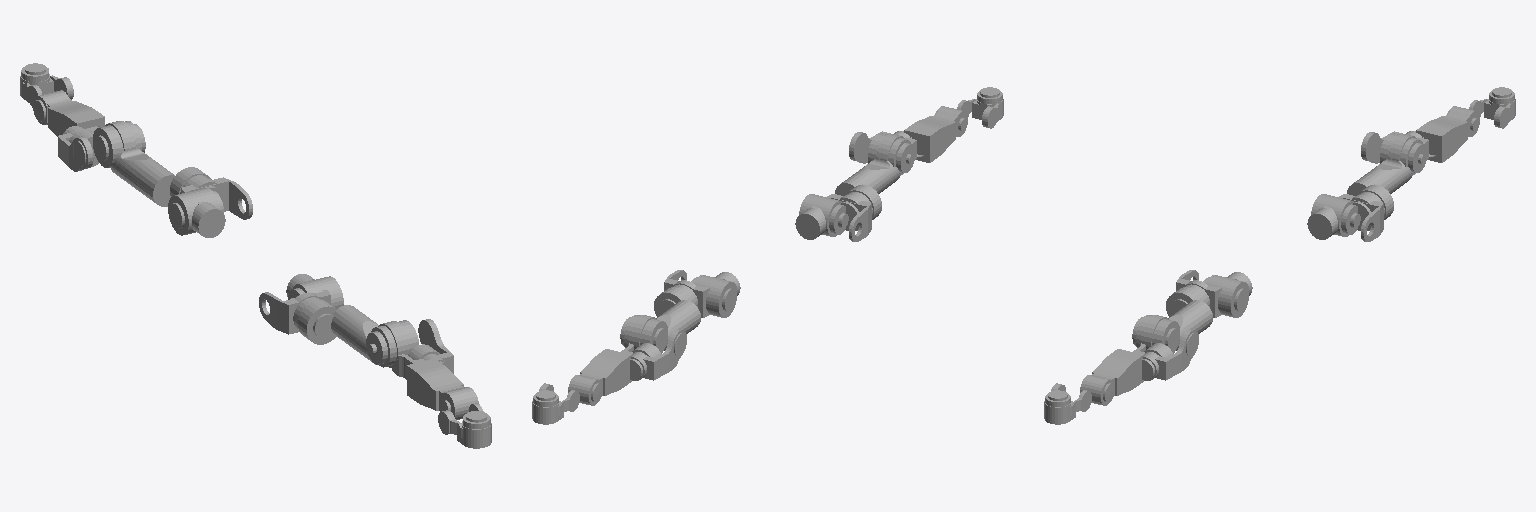
--- Facts derived from the render (not from the file) ---
The picture shows the robot from 3 angles, left to right: view 1: azimuth 30°, elevation 25°; view 2: azimuth 150°, elevation 25°; view 3: azimuth 330°, elevation 25°; orthographic projection.
Robot: OpenLoog — 15 links, 14 joints (14 revolute); root link base_link; default pose: all joints at 0.
Visible links, largest first — view 1: Link_arm_l_03, Link_arm_r_03, Link_arm_r_02, Link_arm_r_05, Link_arm_l_01, Link_arm_l_05, Link_arm_l_02, Link_arm_r_06, Link_arm_r_04, Link_arm_l_04, Link_arm_l_06, Link_arm_r_01; view 2: Link_arm_r_03, Link_arm_l_03, Link_arm_l_05, Link_arm_r_05, Link_arm_r_01, Link_arm_l_04, Link_arm_r_02, Link_arm_l_02, Link_arm_l_01, Link_arm_l_06, Link_arm_r_06, Link_arm_r_04; view 3: Link_arm_l_03, Link_arm_r_03, Link_arm_r_05, Link_arm_l_05, Link_arm_l_01, Link_arm_r_04, Link_arm_l_02, Link_arm_r_02, Link_arm_r_01, Link_arm_r_06, Link_arm_l_06, Link_arm_l_04.
Boxes of the visible links, x1,y1,x2,y2 form: Link_arm_l_03: [93, 121, 174, 206]; Link_arm_r_03: [331, 305, 418, 367]; Link_arm_r_02: [259, 279, 336, 344]; Link_arm_r_05: [407, 359, 478, 419]; Link_arm_l_01: [168, 188, 225, 237]; Link_arm_l_05: [33, 90, 104, 136]; Link_arm_l_02: [170, 167, 252, 219]; Link_arm_r_06: [438, 403, 491, 448]; Link_arm_r_04: [392, 319, 453, 379]; Link_arm_l_04: [58, 126, 98, 171]; Link_arm_l_06: [20, 63, 73, 107]; Link_arm_r_01: [286, 274, 343, 308]; Link_arm_r_03: [835, 133, 915, 195]; Link_arm_l_03: [620, 300, 700, 353]; Link_arm_l_05: [568, 349, 631, 405]; Link_arm_r_05: [904, 106, 967, 162]; Link_arm_r_01: [795, 194, 848, 239]; Link_arm_l_04: [621, 329, 686, 380]; Link_arm_r_02: [812, 184, 881, 241]; Link_arm_l_02: [654, 270, 724, 317]; Link_arm_l_01: [691, 272, 740, 317]; Link_arm_l_06: [532, 383, 579, 424]; Link_arm_r_06: [957, 87, 1003, 128]; Link_arm_r_04: [849, 131, 916, 163]; Link_arm_l_03: [1347, 133, 1427, 195]; Link_arm_r_03: [1132, 300, 1212, 353]; Link_arm_r_05: [1080, 349, 1143, 405]; Link_arm_l_05: [1416, 106, 1479, 162]; Link_arm_l_01: [1307, 194, 1360, 239]; Link_arm_r_04: [1133, 329, 1198, 380]; Link_arm_l_02: [1324, 184, 1393, 241]; Link_arm_r_02: [1166, 270, 1236, 317]; Link_arm_r_01: [1203, 272, 1252, 317]; Link_arm_r_06: [1044, 383, 1091, 424]; Link_arm_l_06: [1469, 87, 1515, 128]; Link_arm_l_04: [1361, 131, 1428, 163].
Size in the robot's own frame: 0.1913 by 1.77 by 0.1035 metres.
12 mesh visuals loaded from 15 distinct referenced files (12 binary STL); not drawn: 3 (reference not matched to a file when rendering).

The robot description file, URDF, robot "OpenLoog":
<?xml version="1.0" encoding="utf-8"?>
<!-- This URDF was automatically created by SolidWorks to URDF Exporter! Originally created by Stephen Brawner ([email redacted]) 
     Commit Version: 1.6.0-4-g7f85cfe  Build Version: 1.6.7995.38578
     For more information, please see http://wiki.ros.org/sw_urdf_exporter -->
<!-- 
Copyright 2025 国地共建人形机器人创新中心/人形机器人（上海）有限公司, https://www.openloong.net/

Permission is hereby granted, free of charge, to any person obtaining a copy of this software and associated documentation files (the “Software”), to deal in the Software without restriction, including without limitation the rights to use, copy, modify, merge, publish, distribute, sublicense, and/or sell copies of the Software, and to permit persons to whom the Software is furnished to do so, subject to the following conditions:

The above copyright notice and this permission notice shall be included in all copies or substantial portions of the Software.

THE SOFTWARE IS PROVIDED “AS IS”, WITHOUT WARRANTY OF ANY KIND, EXPRESS OR IMPLIED, INCLUDING BUT NOT LIMITED TO THE WARRANTIES OF MERCHANTABILITY, FITNESS FOR A PARTICULAR PURPOSE AND NONINFRINGEMENT. IN NO EVENT SHALL THE AUTHORS OR COPYRIGHT HOLDERS BE LIABLE FOR ANY CLAIM, DAMAGES OR OTHER LIABILITY, WHETHER IN AN ACTION OF CONTRACT, TORT OR OTHERWISE, ARISING FROM, OUT OF OR IN CONNECTION WITH THE SOFTWARE OR THE USE OR OTHER DEALINGS IN THE SOFTWARE.
-->
<robot
  name="OpenLoog">
  <mujoco>
    <compiler
    	meshdir="meshes/"
    	balanceinertia="true"
    	discardvisual="false" />
  </mujoco>
  <link
    name="base_link">
    <inertial>
      <origin
        xyz="-0.0056641 -0.0013367 0.23829"
        rpy="0 0 0" />
      <mass
        value="22.447" />
      <inertia
        ixx="0.3742"
        ixy="0"
        ixz="0"
        iyy="0.27691"
        iyz="0"
        izz="0.22104" />
    </inertial>
    <visual>
      <origin
        xyz="0 0 0"
        rpy="0 0 0" />
      <geometry>
        <mesh
          filename="package://AzureLoong/meshes/base_link.STL" />
      </geometry>
      <material
        name="">
        <color
          rgba="0.75294 0.75294 0.75294 1" />
      </material>
    </visual>
    <collision>
      <origin
        xyz="0 0 0"
        rpy="0 0 0" />
      <geometry>
        <mesh
          filename="package://AzureLoong/meshes/base_link.STL" />
      </geometry>
    </collision>
  </link>
  <!-- <link
    name="Link_head_yaw">
    <inertial>
      <origin
        xyz="4.6974E-12 -0.0020814 0.044801"
        rpy="0 0 0" />
      <mass
        value="0.84249" />
      <inertia
        ixx="0.000629"
        ixy="-1.2848E-14"
        ixz="1.5461E-10"
        iyy="0.0007003"
        iyz="6.5E-06"
        izz="0.0005541" />
    </inertial>
    <visual>
      <origin
        xyz="0 0 0"
        rpy="0 0 0" />
      <geometry>
        <mesh
          filename="package://AzureDragon/meshes/Link_head_yaw.STL" />
      </geometry>
      <material
        name="">
        <color
          rgba="0.89804 0.91765 0.92941 1" />
      </material>
    </visual>
    <collision>
      <origin
        xyz="0 0 0"
        rpy="0 0 0" />
      <geometry>
        <mesh
          filename="package://AzureDragon/meshes/Link_head_yaw.STL" />
      </geometry>
    </collision>
  </link>
  <joint
    name="J_head_yaw"
    type="revolute">
    <origin
      xyz="0.009 0 0.4064"
      rpy="0 0 0" />
    <parent
      link="base_link" />
    <child
      link="Link_head_yaw" />
    <axis
      xyz="0 0 1" />
    <limit
      lower="-1.5708"
      upper="1.5708"
      effort="26"
      velocity="109.8" />
  </joint>
  <link
    name="Link_head_pitch">
    <inertial>
      <origin
        xyz="0.020569 0.033004 0.125"
        rpy="0 0 0" />
      <mass
        value="1.3943" />
      <inertia
        ixx="0.0060059"
        ixy="-9.4E-06"
        ixz="0.0007564"
        iyy="0.00629"
        iyz="-1.03E-05"
        izz="0.0048569" />
    </inertial>
    <visual>
      <origin
        xyz="0 0 0"
        rpy="0 0 0" />
      <geometry>
        <mesh
          filename="package://AzureDragon/meshes/Link_head_pitch.STL" />
      </geometry>
      <material
        name="">
        <color
          rgba="0.69804 0.69804 0.69804 1" />
      </material>
    </visual>
    <collision>
      <origin
        xyz="0 0 0"
        rpy="0 0 0" />
      <geometry>
        <mesh
          filename="package://AzureDragon/meshes/Link_head_pitch.STL" />
      </geometry>
    </collision>
  </link>
  <joint
    name="J_head_pitch"
    type="revolute">
    <origin
      xyz="0 -0.0345999999999997 0.0484999999999999"
      rpy="0 0 0" />
    <parent
      link="Link_head_yaw" />
    <child
      link="Link_head_pitch" />
    <axis
      xyz="0 -1 0" />
    <limit
      lower="-0.7854"
      upper="0.7854"
      effort="26"
      velocity="109.8" />
  </joint> -->
  <link
    name="Link_arm_r_01">
    <inertial>
      <origin
        xyz="0.0044946 0.002706 -1.8744E-06"
        rpy="0 0 0" />
      <mass
        value="0.75641" />
      <inertia
        ixx="0.00058712"
        ixy="2.9803E-07"
        ixz="5.8378E-09"
        iyy="0.00080305"
        iyz="-3.6648E-08"
        izz="0.00084299" />
    </inertial>
    <visual>
      <origin
        xyz="0 0.041 0"
        rpy="0 0 0" />
      <geometry>
        <mesh
          filename="package://AzureLoong/meshes/Link_arm_r_01.STL" />
      </geometry>
      <material
        name="">
        <color
          rgba="0.69804 0.69804 0.69804 1" />
      </material>
    </visual>
    <collision>
      <origin
        xyz="0 0.041 0"
        rpy="0 0 0" />
      <geometry>
        <mesh
          filename="package://AzureLoong/meshes/Link_arm_r_01.STL" />
      </geometry>
    </collision>
  </link>
  <joint
    name="J_arm_r_01"
    type="revolute">
    <origin
      xyz="0.004 -0.2026 0.3922"
      rpy="0 0 0" />
    <parent
      link="base_link" />
    <child
      link="Link_arm_r_01" />
    <axis
      xyz="0 -1 0" />
    <limit
      lower="-2.96706"
      upper="2.96706"
      effort="80"
      velocity="3.14" />
  </joint>
  <link
    name="Link_arm_r_02">
    <inertial>
      <origin
        xyz="0 -0.0674307499121858 -6.93889390390723E-18"
        rpy="0 0 0" />
      <mass
        value="0.984999996273518" />
      <inertia
        ixx="0.0017309882399251"
        ixy="-9.79515256436727E-20"
        ixz="-3.63988309726277E-19"
        iyy="0.00115401958000568"
        iyz="4.42134220053852E-19"
        izz="0.00226269324370836" />
    </inertial>
    <visual>
      <origin
        xyz="-0.042 0 0"
        rpy="0 0 0" />
      <geometry>
        <mesh
          filename="package://AzureLoong/meshes/Link_arm_r_02.STL" />
      </geometry>
      <material
        name="">
        <color
          rgba="0.698039215686274 0.698039215686274 0.698039215686274 1" />
      </material>
    </visual>
    <collision>
      <origin
        xyz="-0.042 0 0"
        rpy="0 0 0" />
      <geometry>
        <mesh
          filename="package://AzureLoong/meshes/Link_arm_r_02.STL" />
      </geometry>
    </collision>
  </link>
  <joint
    name="J_arm_r_02"
    type="revolute">
    <origin
      xyz="0 0 0"
      rpy="0 0 0" />
    <parent
      link="Link_arm_r_01" />
    <child
      link="Link_arm_r_02" />
    <axis
      xyz="-1 0 0" />
    <limit
      lower="-1.83260"
      upper="1.83260"
      effort="80"
      velocity="3.14" />
  </joint>
  <link
    name="Link_arm_r_03">
    <inertial>
      <origin
        xyz="-0.00141357502419955 -0.164662742175383 0.0207578924800774"
        rpy="0 0 0" />
      <mass
        value="0.958999855228924" />
      <inertia
        ixx="0.00206438134078715"
        ixy="1.82014067823509E-05"
        ixz="-5.1283136963991E-06"
        iyy="0.00080535412926664"
        iyz="-0.000255265992194607"
        izz="0.00205099914609259" />
    </inertial>
    <visual>
      <origin
        xyz="0 0 0"
        rpy="0 0 0" />
      <geometry>
        <mesh
          filename="package://AzureLoong/meshes/Link_arm_r_03.STL" />
      </geometry>
      <material
        name="">
        <color
          rgba="0.698039215686274 0.698039215686274 0.698039215686274 1" />
      </material>
    </visual>
    <collision>
      <origin
        xyz="0 0 0"
        rpy="0 0 0" />
      <geometry>
        <mesh
          filename="package://AzureLoong/meshes/Link_arm_r_03.STL" />
      </geometry>
    </collision>
  </link>
  <joint
    name="J_arm_r_03"
    type="revolute">
    <origin
      xyz="0 -0.1226 0"
      rpy="0 0 0" />
    <parent
      link="Link_arm_r_02" />
    <child
      link="Link_arm_r_03" />
    <axis
      xyz="0 -1 0" />
    <limit
      lower="-2.96706"
      upper="2.96706"
      effort="48"
      velocity="3.14" />
  </joint>
  <link
    name="Link_arm_r_04">
    <inertial>
      <origin
        xyz="-0.0034 -0.060767 -0.021003"
        rpy="0 0 0" />
      <mass
        value="0.6" />
      <inertia
        ixx="0.00070398"
        ixy="-2.023E-05"
        ixz="-1.1263E-05"
        iyy="0.00068085"
        iyz="0.00010585"
        izz="0.0010653" />
    </inertial>
    <visual>
      <origin
        xyz="0.0353 0 0"
        rpy="0 0 0" />
      <geometry>
        <mesh
          filename="package://AzureLoong/meshes/Link_arm_r_04.STL" />
      </geometry>
      <material
        name="">
        <color
          rgba="0.69804 0.69804 0.69804 1" />
      </material>
    </visual>
    <collision>
      <origin
        xyz="0.0353 0 0"
        rpy="0 0 0" />
      <geometry>
        <mesh
          filename="package://AzureLoong/meshes/Link_arm_r_04.STL" />
      </geometry>
    </collision>
  </link>
  <joint
    name="J_arm_r_04"
    type="revolute">
    <origin
      xyz="0 -0.1774 0.024"
      rpy="0 0 0" />
    <parent
      link="Link_arm_r_03" />
    <child
      link="Link_arm_r_04" />
    <axis
      xyz="-1 0 0" />
    <limit
      lower="0"
      upper="2.96706"
      effort="48"
      velocity="3.14" />
  </joint>
  <link
    name="Link_arm_r_05">
    <inertial>
      <origin
        xyz="3.2712E-05 -0.068658 -0.00011178"
        rpy="0 0 0" />
      <mass
        value="0.68976" />
      <inertia
        ixx="0.0025225"
        ixy="4E-07"
        ixz="-8E-07"
        iyy="0.0004487"
        iyz="-3.1E-06"
        izz="0.0024111" />
    </inertial>
    <visual>
      <origin
        xyz="0 0 0"
        rpy="0 0 0" />
      <geometry>
        <mesh
          filename="package://AzureLoong/meshes/Link_arm_r_05.STL" />
      </geometry>
      <material
        name="">
        <color
          rgba="0.69804 0.69804 0.69804 1" />
      </material>
    </visual>
    <collision>
      <origin
        xyz="0 0 0"
        rpy="0 0 0" />
      <geometry>
        <mesh
          filename="package://AzureLoong/meshes/Link_arm_r_05.STL" />
      </geometry>
    </collision>
  </link>
  <joint
    name="J_arm_r_05"
    type="revolute">
    <origin
      xyz="0 -0.1035 -0.024"
      rpy="0 0 0" />
    <parent
      link="Link_arm_r_04" />
    <child
      link="Link_arm_r_05" />
    <axis
      xyz="0 -1 0" />
    <limit
      lower="-2.96706"
      upper="2.96706"
      effort="12.4"
      velocity="6.28" />
  </joint>
  <link
    name="Link_arm_r_06">
    <inertial>
      <origin
        xyz="0 -8.9588E-07 0.0016637"
        rpy="0 0 0" />
      <mass
        value="0.28" />
      <inertia
        ixx="0.0001456"
        ixy="7.7026E-10"
        ixz="2.1456E-07"
        iyy="0.00015693"
        iyz="2.4102E-09"
        izz="0.00010498" />
    </inertial>
    <visual>
      <origin
        xyz="-0.0265 0 0"
        rpy="0 0 0" />
      <geometry>
        <mesh
          filename="package://AzureLoong/meshes/Link_arm_r_06.STL" />
      </geometry>
      <material
        name="">
        <color
          rgba="0.69804 0.69804 0.69804 1" />
      </material>
    </visual>
    <collision>
      <origin
        xyz="-0.0265 0 0"
        rpy="0 0 0" />
      <geometry>
        <mesh
          filename="package://AzureLoong/meshes/Link_arm_r_06.STL" />
      </geometry>
    </collision>
  </link>
  <joint
    name="J_arm_r_06"
    type="revolute">
    <origin
      xyz="0 -0.1965 0"
      rpy="0 0 0" />
    <parent
      link="Link_arm_r_05" />
    <child
      link="Link_arm_r_06" />
    <axis
      xyz="1 0 0" />
    <limit
      lower="-1.8326"
      upper="1.8326"
      effort="12.4"
      velocity="6.28" />
  </joint>
  <link
    name="Link_arm_r_07">
    <inertial>
      <origin
        xyz="-0.007859 -0.15817 0.00406"
        rpy="0 0 0" />
      <mass
        value="0.61354" />
      <inertia
        ixx="0.0025969"
        ixy="-4.65E-05"
        ixz="0.0001089"
        iyy="0.0007306"
        iyz="1.47E-05"
        izz="0.0030104" />
    </inertial>
    <visual>
      <origin
        xyz="0 0 0.0318"
        rpy="0 0 0" />
      <geometry>
        <mesh
          filename="package://AzureLoong/meshes/Link_arm_r_07.STL" />
      </geometry>
      <material
        name="">
        <color
          rgba="0.77647 0.75686 0.73725 1" />
      </material>
    </visual>
    <collision>
      <origin
        xyz="0 0 0.0318"
        rpy="0 0 0" />
      <geometry>
        <mesh
          filename="package://AzureLoong/meshes/Link_arm_r_07.STL" />
      </geometry>
    </collision>
  </link>
  <joint
    name="J_arm_r_07"
    type="revolute">
    <origin
      xyz="0 0 0"
      rpy="0 0 0" />
    <parent
      link="Link_arm_r_06" />
    <child
      link="Link_arm_r_07" />
    <axis
      xyz="0 0 1" />
    <limit
      lower="-1.04720"
      upper="1.04720"
      effort="12.4"
      velocity="6.28" />
  </joint>
  <link
    name="Link_arm_l_01">
    <inertial>
      <origin
        xyz="-0.00449464987882542 -0.0027 -1.874402432607E-06"
        rpy="0 0 0" />
      <mass
        value="0.756406339732892" />
      <inertia
        ixx="0.000587115683146372"
        ixy="2.98026052651538E-07"
        ixz="-5.83781087215966E-09"
        iyy="0.000803052813361661"
        iyz="3.66476835396106E-08"
        izz="0.000842985653484675" />
    </inertial>
    <visual>
      <origin
        xyz="0 -0.041 0"
        rpy="0 0 0" />
      <geometry>
        <mesh
          filename="package://AzureLoong/meshes/Link_arm_l_01.STL" />
      </geometry>
      <material
        name="">
        <color
          rgba="0.698039215686274 0.698039215686274 0.698039215686274 1" />
      </material>
    </visual>
    <collision>
      <origin
        xyz="0 -0.041 0"
        rpy="0 0 0" />
      <geometry>
        <mesh
          filename="package://AzureLoong/meshes/Link_arm_l_01.STL" />
      </geometry>
    </collision>
  </link>
  <joint
    name="J_arm_l_01"
    type="revolute">
    <origin
      xyz="0.004 0.2026 0.3922"
      rpy="0 0 0" />
    <parent
      link="base_link" />
    <child
      link="Link_arm_l_01" />
    <axis
      xyz="0 1 0" />
    <limit
      lower="-2.96706"
      upper="2.96706"
      effort="80"
      velocity="3.14" />
  </joint>
  <link
    name="Link_arm_l_02">
    <inertial>
      <origin
        xyz="0 0.0674307499121858 1.38777878078145E-17"
        rpy="0 0 0" />
      <mass
        value="0.984999996273518" />
      <inertia
        ixx="0.0017309882399251"
        ixy="-1.48322871384691E-19"
        ixz="-1.94588987195478E-19"
        iyy="0.00115401958000568"
        iyz="-6.15989345249147E-19"
        izz="0.00226269324370836" />
    </inertial>
    <visual>
      <origin
        xyz="0.042 0 0"
        rpy="0 0 0" />
      <geometry>
        <mesh
          filename="package://AzureLoong/meshes/Link_arm_l_02.STL" />
      </geometry>
      <material
        name="">
        <color
          rgba="0.698039215686274 0.698039215686274 0.698039215686274 1" />
      </material>
    </visual>
    <collision>
      <origin
        xyz="0.042 0 0"
        rpy="0 0 0" />
      <geometry>
        <mesh
          filename="package://AzureLoong/meshes/Link_arm_l_02.STL" />
      </geometry>
    </collision>
  </link>
  <joint
    name="J_arm_l_02"
    type="revolute">
    <origin
      xyz="0 0 0"
      rpy="0 0 0" />
    <parent
      link="Link_arm_l_01" />
    <child
      link="Link_arm_l_02" />
    <axis
      xyz="1 0 0" />
    <limit
      lower="-1.83260"
      upper="1.83260"
      effort="80"
      velocity="3.14" />
  </joint>
  <link
    name="Link_arm_l_03">
    <inertial>
      <origin
        xyz="0.00141357502419956 0.164662742175383 0.0207578924800774"
        rpy="0 0 0" />
      <mass
        value="0.958999855228925" />
      <inertia
        ixx="0.00206438134078715"
        ixy="1.82014067823508E-05"
        ixz="5.12831369639908E-06"
        iyy="0.000805354129266641"
        iyz="0.000255265992194607"
        izz="0.00205099914609259" />
    </inertial>
    <visual>
      <origin
        xyz="0 0 0"
        rpy="0 0 0" />
      <geometry>
        <mesh
          filename="package://AzureLoong/meshes/Link_arm_l_03.STL" />
      </geometry>
      <material
        name="">
        <color
          rgba="0.698039215686274 0.698039215686274 0.698039215686274 1" />
      </material>
    </visual>
    <collision>
      <origin
        xyz="0 0 0"
        rpy="0 0 0" />
      <geometry>
        <mesh
          filename="package://AzureLoong/meshes/Link_arm_l_03.STL" />
      </geometry>
    </collision>
  </link>
  <joint
    name="J_arm_l_03"
    type="revolute">
    <origin
      xyz="0 0.1226 0"
      rpy="0 0 0" />
    <parent
      link="Link_arm_l_02" />
    <child
      link="Link_arm_l_03" />
    <axis
      xyz="0 1 0" />
    <limit
      lower="-2.96706"
      upper="2.96706"
      effort="48"
      velocity="3.14" />
  </joint>
  <link
    name="Link_arm_l_04">
    <inertial>
      <origin
        xyz="0.0034 0.0607672244593032 -0.0210032450980798"
        rpy="0 0 0" />
      <mass
        value="0.60000012303258" />
      <inertia
        ixx="0.000703976141425558"
        ixy="-2.02301178076816E-05"
        ixz="1.12633779930363E-05"
        iyy="0.000680850033983237"
        iyz="-0.000105852227353173"
        izz="0.00106526266740194" />
    </inertial>
    <visual>
      <origin
        xyz="-0.0353 0 0"
        rpy="0 0 0" />
      <geometry>
        <mesh
          filename="package://AzureLoong/meshes/Link_arm_l_04.STL" />
      </geometry>
      <material
        name="">
        <color
          rgba="0.698039215686274 0.698039215686274 0.698039215686274 1" />
      </material>
    </visual>
    <collision>
      <origin
        xyz="-0.0353 0 0"
        rpy="0 0 0" />
      <geometry>
        <mesh
          filename="package://AzureLoong/meshes/Link_arm_l_04.STL" />
      </geometry>
    </collision>
  </link>
  <joint
    name="J_arm_l_04"
    type="revolute">
    <origin
      xyz="0 0.1774 0.024"
      rpy="0 0 0" />
    <parent
      link="Link_arm_l_03" />
    <child
      link="Link_arm_l_04" />
    <axis
      xyz="1 0 0" />
    <limit
      lower="0"
      upper="2.96706"
      effort="48"
      velocity="3.14" />
  </joint>
  <link
    name="Link_arm_l_05">
    <inertial>
      <origin
        xyz="-3.2712E-05 0.068658 -0.00011178"
        rpy="0 0 0" />
      <mass
        value="0.68976" />
      <inertia
        ixx="0.0025225"
        ixy="4E-07"
        ixz="8E-07"
        iyy="0.0004487"
        iyz="3.1E-06"
        izz="0.0024111" />
    </inertial>
    <visual>
      <origin
        xyz="0 0 0"
        rpy="0 0 0" />
      <geometry>
        <mesh
          filename="package://AzureLoong/meshes/Link_arm_l_05.STL" />
      </geometry>
      <material
        name="">
        <color
          rgba="0.69804 0.69804 0.69804 1" />
      </material>
    </visual>
    <collision>
      <origin
        xyz="0 0 0"
        rpy="0 0 0" />
      <geometry>
        <mesh
          filename="package://AzureLoong/meshes/Link_arm_l_05.STL" />
      </geometry>
    </collision>
  </link>
  <joint
    name="J_arm_l_05"
    type="revolute">
    <origin
      xyz="0 0.1035 -0.024"
      rpy="0 0 0" />
    <parent
      link="Link_arm_l_04" />
    <child
      link="Link_arm_l_05" />
    <axis
      xyz="0 1 0" />
    <limit
      lower="-2.96706"
      upper="2.96706"
      effort="12.4"
      velocity="6.28" />
  </joint>
  <link
    name="Link_arm_l_06">
    <inertial>
      <origin
        xyz="0 8.95877202866657E-07 0.00166373234012217"
        rpy="0 0 0" />
      <mass
        value="0.280000012776158" />
      <inertia
        ixx="0.000145596926990102"
        ixy="7.70263046256849E-10"
        ixz="-2.14557176368931E-07"
        iyy="0.000156926535065694"
        iyz="-2.41022657678511E-09"
        izz="0.000104981940665913" />
    </inertial>
    <visual>
      <origin
        xyz="0.0265 0 0"
        rpy="0 0 0" />
      <geometry>
        <mesh
          filename="package://AzureLoong/meshes/Link_arm_l_06.STL" />
      </geometry>
      <material
        name="">
        <color
          rgba="0.698039215686274 0.698039215686274 0.698039215686274 1" />
      </material>
    </visual>
    <collision>
      <origin
        xyz="0.0265 0 0"
        rpy="0 0 0" />
      <geometry>
        <mesh
          filename="package://AzureLoong/meshes/Link_arm_l_06.STL" />
      </geometry>
    </collision>
  </link>
  <joint
    name="J_arm_l_06"
    type="revolute">
    <origin
      xyz="0 0.1965 0"
      rpy="0 0 0" />
    <parent
      link="Link_arm_l_05" />
    <child
      link="Link_arm_l_06" />
    <axis
      xyz="-1 0 0" />
    <limit
      lower="-1.8326"
      upper="1.8326"
      effort="12.4"
      velocity="6.28" />
  </joint>
  <link
    name="Link_arm_l_07">
    <inertial>
      <origin
        xyz="-0.0077872 0.15705 -0.027733"
        rpy="0 0 0" />
      <mass
        value="0.61354" />
      <inertia
        ixx="0.0025964"
        ixy="4.66E-05"
        ixz="0.0001089"
        iyy="0.0007306"
        iyz="-1.47E-05"
        izz="0.00301" />
    </inertial>
    <visual>
      <origin
        xyz="0 0 0.0318"
        rpy="0 0 0" />
      <geometry>
        <mesh
          filename="package://AzureLoong/meshes/Link_arm_l_07.STL" />
      </geometry>
      <material
        name="">
        <color
          rgba="0.77647 0.75686 0.73725 1" />
      </material>
    </visual>
    <collision>
      <origin
        xyz="0 0 0.0318"
        rpy="0 0 0" />
      <geometry>
        <mesh
          filename="package://AzureLoong/meshes/Link_arm_l_07.STL" />
      </geometry>
    </collision>
  </link>
  <joint
    name="J_arm_l_07"
    type="revolute">
    <origin
      xyz="0 0 0"
      rpy="0 0 0" />
    <parent
      link="Link_arm_l_06" />
    <child
      link="Link_arm_l_07" />
    <axis
      xyz="0 0 1" />
    <limit
      lower="-1.04720"
      upper="1.04720"
      effort="12.4"
      velocity="6.28" />
  </joint>
  <!-- <link
    name="Link_waist_pitch">
    <inertial>
      <origin
        xyz="-0.00073496 0.049925 -2.9695E-05"
        rpy="0 0 0" />
      <mass
        value="2.6964" />
      <inertia
        ixx="0.0051971"
        ixy="4.37E-05"
        ixz="-3E-07"
        iyy="0.0047413"
        iyz="-6E-06"
        izz="0.0061906" />
    </inertial>
    <visual>
      <origin
        xyz="0 0 0"
        rpy="0 0 0" />
      <geometry>
        <mesh
          filename="package://AzureLoong/meshes/Link_waist_pitch.STL" />
      </geometry>
      <material
        name="">
        <color
          rgba="0.69804 0.69804 0.69804 1" />
      </material>
    </visual>
    <collision>
      <origin
        xyz="0 0 0"
        rpy="0 0 0" />
      <geometry>
        <mesh
          filename="package://AzureLoong/meshes/Link_waist_pitch.STL" />
      </geometry>
    </collision>
  </link>
  <joint
    name="J_waist_pitch"
    type="revolute">
    <origin
      xyz="0 -0.0655 0"
      rpy="0 0 0" />
    <parent
      link="base_link" />
    <child
      link="Link_waist_pitch" />
    <axis
      xyz="0 -1 0" />
    <limit
      lower="-0.29671"
      upper="0.78540"
      effort="315"
      velocity="3.72" />
  </joint>
  <link
    name="Link_waist_roll">
    <inertial>
      <origin
        xyz="-0.0037424 -0.001 -0.016856"
        rpy="0 0 0" />
      <mass
        value="2.9806" />
      <inertia
        ixx="0.0071327"
        ixy="0"
        ixz="0.00358"
        iyy="0.018825"
        iyz="0"
        izz="0.016056" />
    </inertial>
    <visual>
      <origin
        xyz="0 0 0"
        rpy="0 0 0" />
      <geometry>
        <mesh
          filename="package://AzureLoong/meshes/Link_waist_roll.STL" />
      </geometry>
      <material
        name="">
        <color
          rgba="0.8902 0.8902 0.91373 1" />
      </material>
    </visual>
    <collision>
      <origin
        xyz="0 0 0"
        rpy="0 0 0" />
      <geometry>
        <mesh
          filename="package://AzureLoong/meshes/Link_waist_roll.STL" />
      </geometry>
    </collision>
  </link>
  <joint
    name="J_waist_roll"
    type="revolute">
    <origin
      xyz="-0.064 0.0655 0"
      rpy="0 0 0" />
    <parent
      link="Link_waist_pitch" />
    <child
      link="Link_waist_roll" />
    <axis
      xyz="1 0 0" />
    <limit
      lower="-0.69813"
      upper="0.69813"
      effort="315"
      velocity="3.72" />
  </joint>
  <link
    name="Link_waist_yaw">
    <inertial>
      <origin
        xyz="-0.096172 -0.001 -0.057836"
        rpy="0 0 0" />
      <mass
        value="7.3588" />
      <inertia
        ixx="0.091635"
        ixy="0"
        ixz="-0.0058036"
        iyy="0.032766"
        iyz="0"
        izz="0.10764" />
    </inertial>
    <visual>
      <origin
        xyz="0 0 0"
        rpy="0 0 0" />
      <geometry>
        <mesh
          filename="package://AzureLoong/meshes/Link_waist_yaw.STL" />
      </geometry>
      <material
        name="">
        <color
          rgba="0.8902 0.8902 0.91373 1" />
      </material>
    </visual>
    <collision>
      <origin
        xyz="0 0 0"
        rpy="0 0 0" />
      <geometry>
        <mesh
          filename="package://AzureLoong/meshes/Link_waist_yaw.STL" />
      </geometry>
    </collision>
  </link>
  <joint
    name="J_waist_yaw"
    type="revolute">
    <origin
      xyz="0.0675 0 -0.098"
      rpy="0 0 0" />
    <parent
      link="Link_waist_roll" />
    <child
      link="Link_waist_yaw" />
    <axis
      xyz="0 0 1" />
    <limit
      lower="-0.78540"
      upper="0.78540"
      effort="121"
      velocity="5.92" />
  </joint> -->
</robot>
